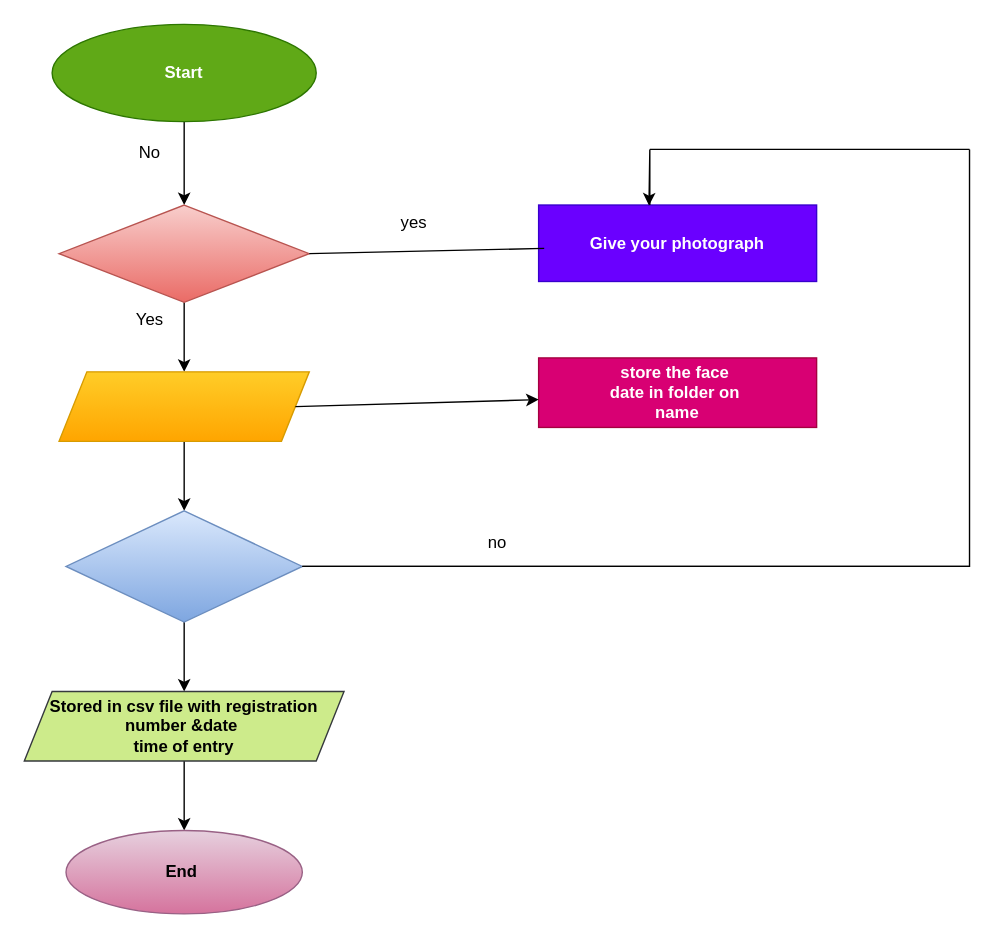
This 995x938 diagram has some shape labels left out. The centre of each missing label's shape, as x and y in pixels:
Face recognised: point (183, 565)
New User run create_dataset: point (183, 253)
Recognise the face: point (183, 405)
